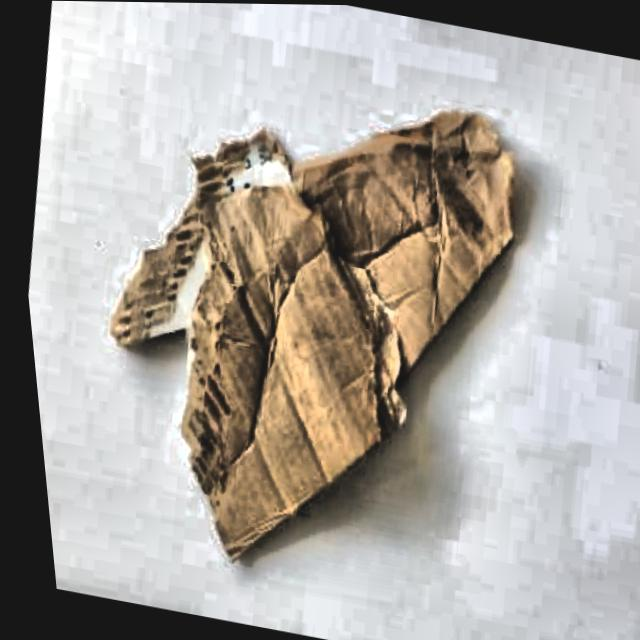Cardbox: (26, 22, 606, 620)
